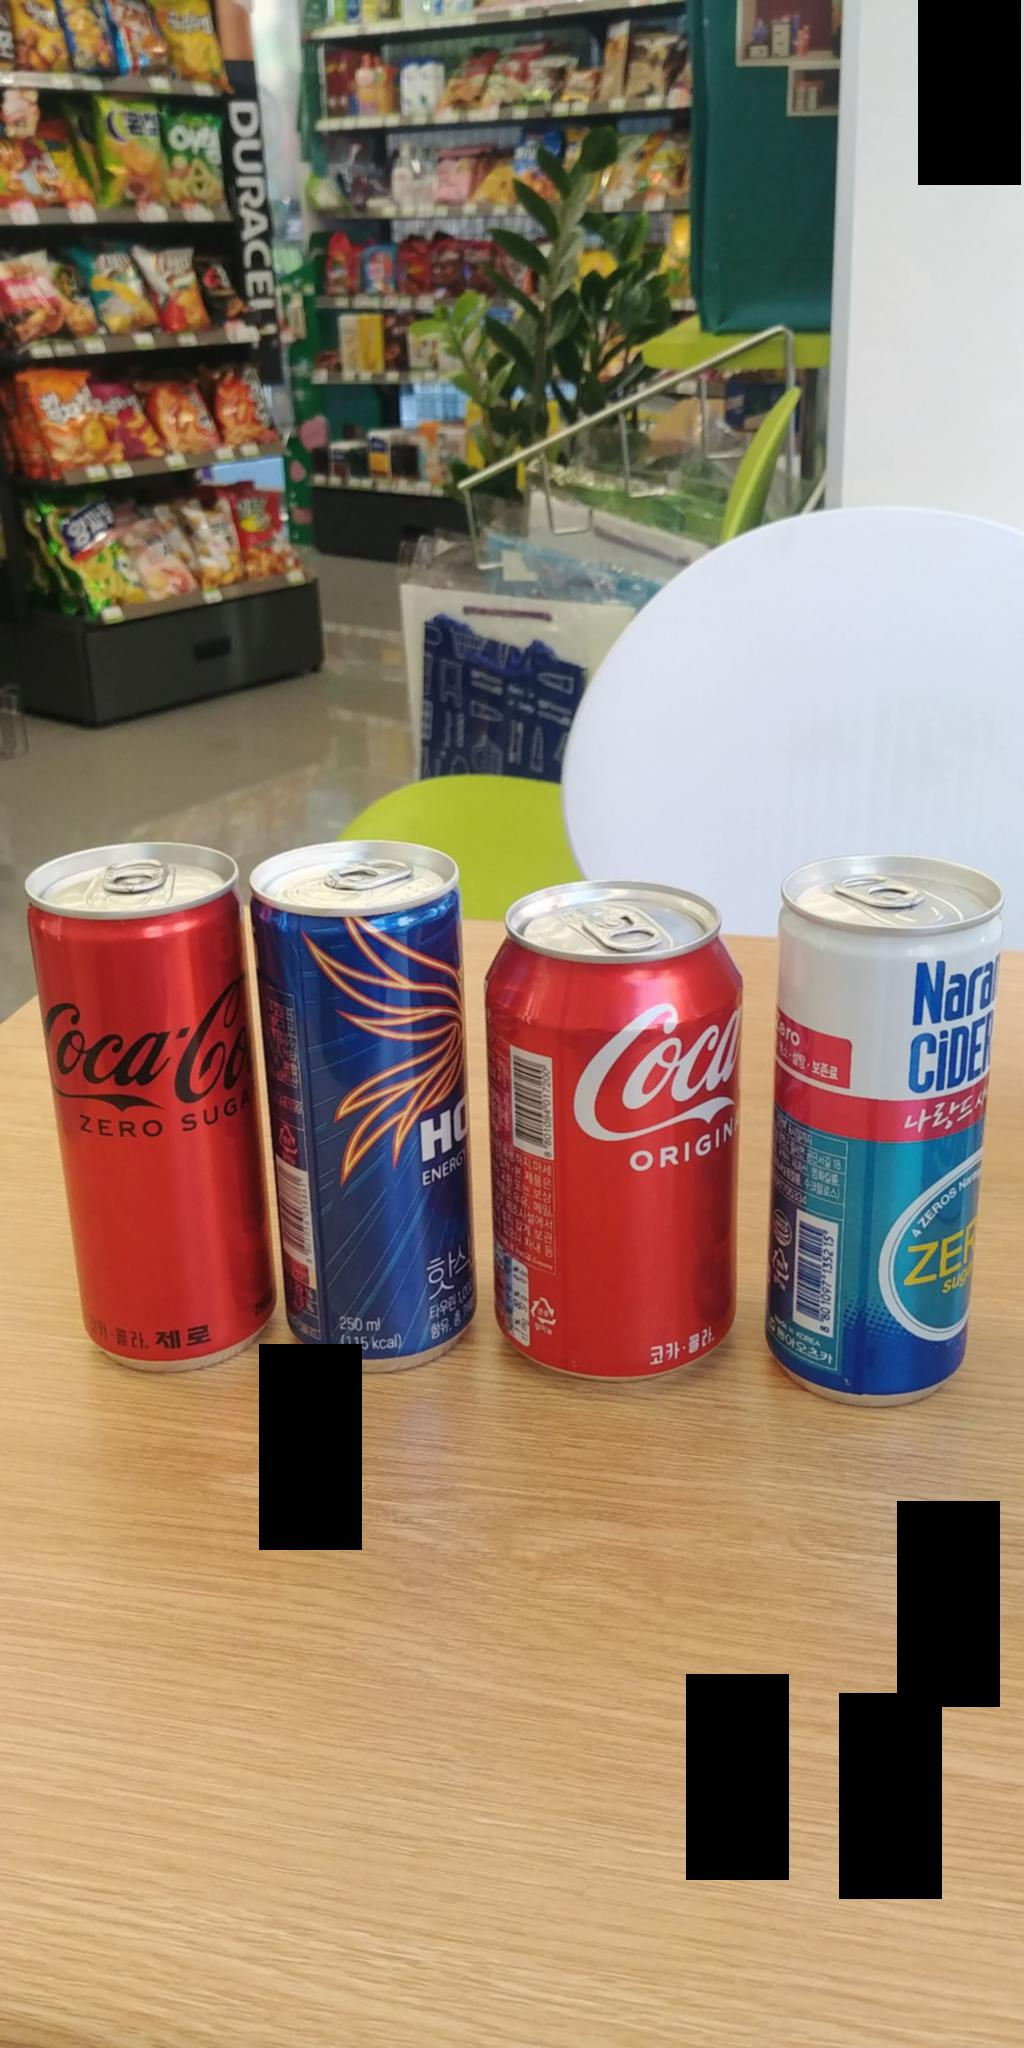cocacola: (479, 871, 744, 1401)
hotsix_org: (257, 832, 474, 1394)
narangdcider: (750, 857, 1020, 1390)
